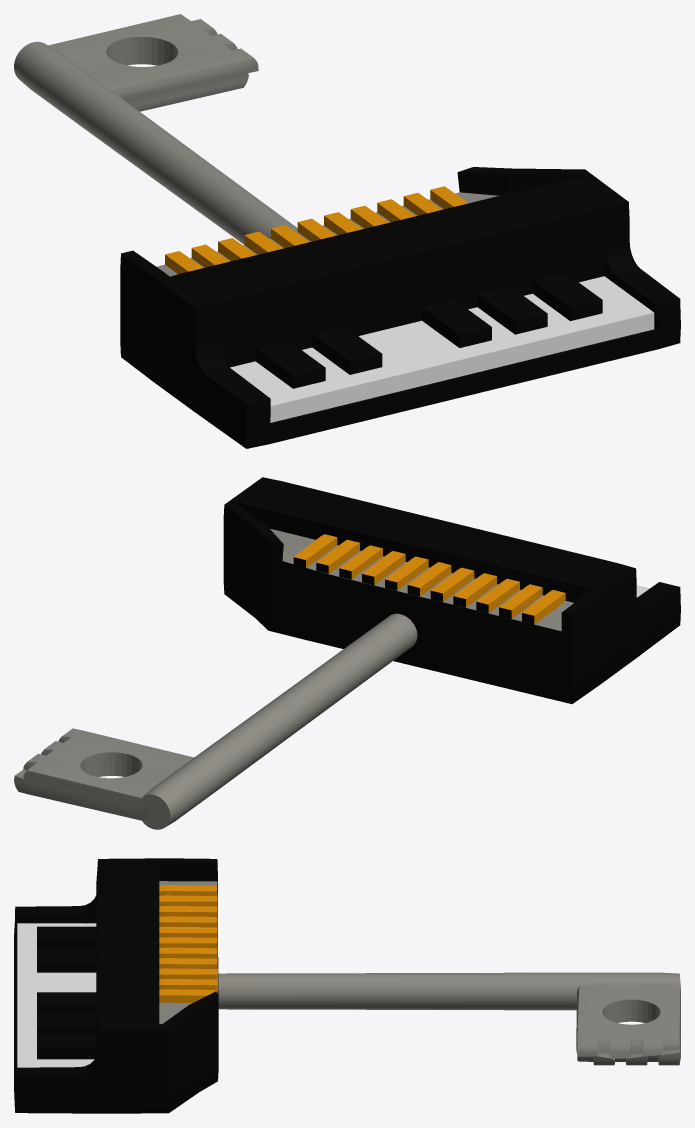
Rendered from PianoKey_1.fbx.
3 views of the same model, one above another, from view 1: azimuth 30°, elevation 25°; view 2: azimuth 150°, elevation 25°; view 3: azimuth 270°, elevation 25° (orthographic). The views are drawn at different scales.
Visible parts, largest first — view 1: Base.003; view 2: Base.003; view 3: Base.003.
Boxes of the visible parts, x1,y1,x2,y2 form: Base.003: (14, 14, 680, 448); Base.003: (14, 477, 680, 829); Base.003: (14, 858, 680, 1113).
Size of the model in its own units: 329 by 77.17 by 540.
